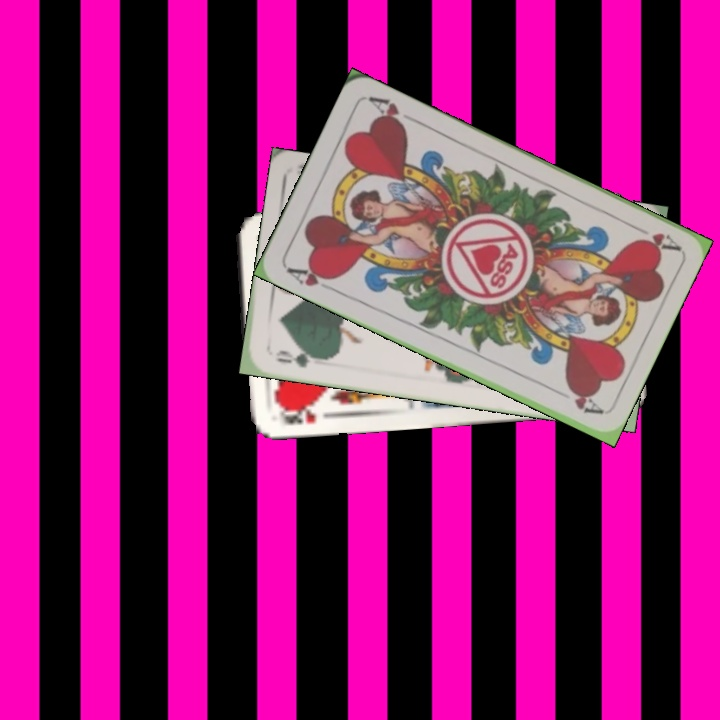GO: (271, 346, 326, 371)
HA: (282, 261, 339, 295), (625, 220, 681, 253)
HK: (274, 401, 319, 428)
